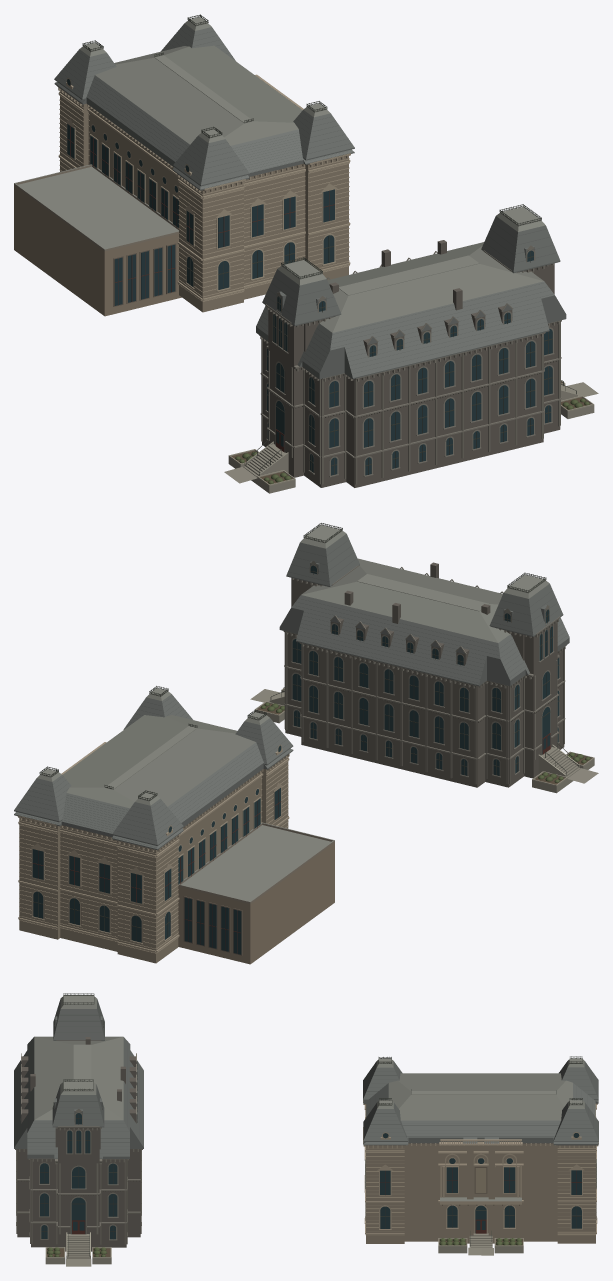
The model's file is site.glb.
3 views of the same model, one above another, from view 1: azimuth 30°, elevation 25°; view 2: azimuth 150°, elevation 25°; view 3: azimuth 270°, elevation 25° (orthographic). The views are drawn at different scales.
Visible parts, largest first — view 1: roof-9017feee, roof-399c648e, heritage-core-approaches; view 2: roof-9017feee, roof-399c648e, heritage-core-approaches; view 3: roof-399c648e, roof-9017feee, heritage-core-approaches.
Part boxes in pixels (left/top/right/bottom): roof-9017feee: left=256, top=204, right=566, bottom=487; roof-399c648e: left=54, top=14, right=354, bottom=312; heritage-core-approaches: left=14, top=164, right=598, bottom=493; roof-9017feee: left=279, top=523, right=569, bottom=787; roof-399c648e: left=14, top=686, right=293, bottom=963; heritage-core-approaches: left=178, top=687, right=598, bottom=964; roof-399c648e: left=363, top=1056, right=598, bottom=1243; roof-9017feee: left=14, top=993, right=143, bottom=1251; heritage-core-approaches: left=45, top=1231, right=523, bottom=1266.
Bounding box in the file's own units: 50.92 × 27.2 × 88.95.
